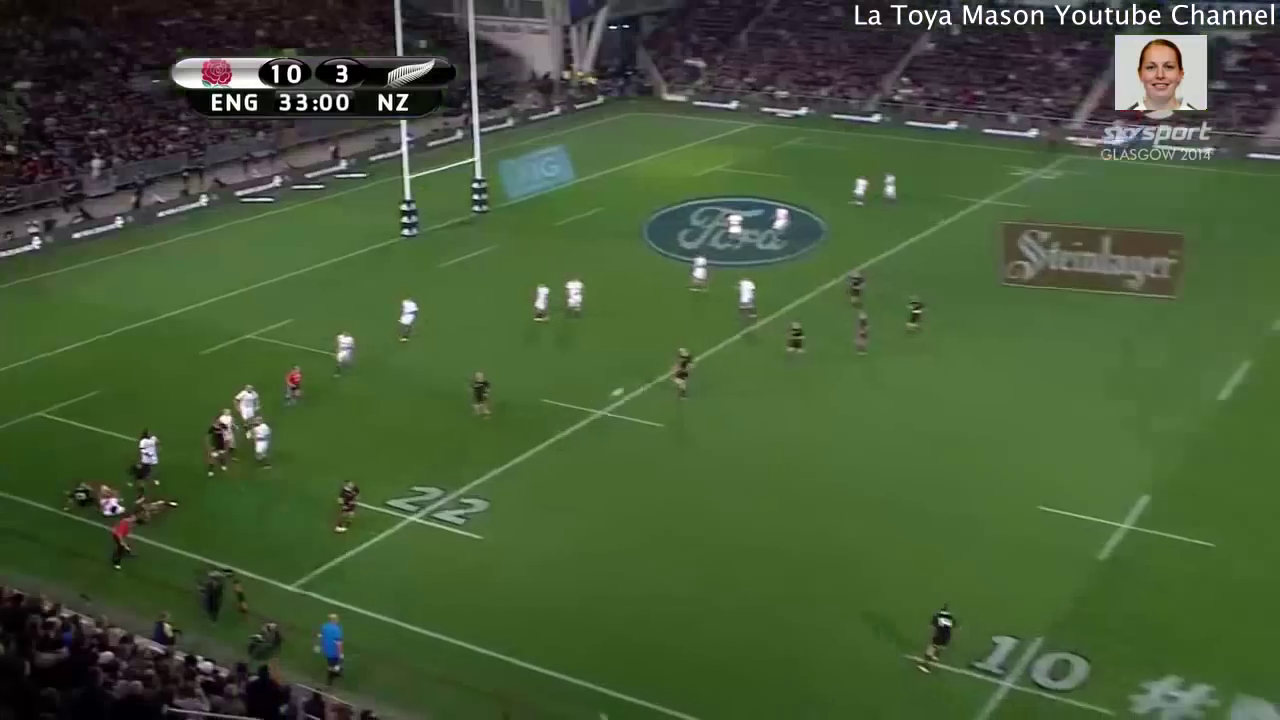10_metre: (893, 621, 1134, 720), (1032, 488, 1228, 570)
player: (909, 596, 961, 678), (127, 424, 171, 499), (238, 410, 281, 478), (660, 341, 701, 410), (193, 413, 235, 480), (461, 364, 502, 429), (324, 475, 361, 542), (729, 268, 763, 337), (87, 470, 128, 522), (227, 381, 265, 434), (106, 512, 139, 573), (324, 322, 358, 380), (387, 292, 424, 345), (124, 491, 184, 523), (526, 276, 561, 330), (276, 362, 308, 417), (684, 246, 715, 298), (216, 401, 243, 459), (557, 272, 587, 323), (56, 481, 97, 518), (782, 313, 812, 362), (876, 164, 904, 215), (897, 293, 925, 344), (849, 306, 873, 363), (841, 267, 870, 313), (844, 168, 869, 219), (767, 199, 794, 244), (722, 207, 748, 250)
post: (389, 114, 503, 249)
